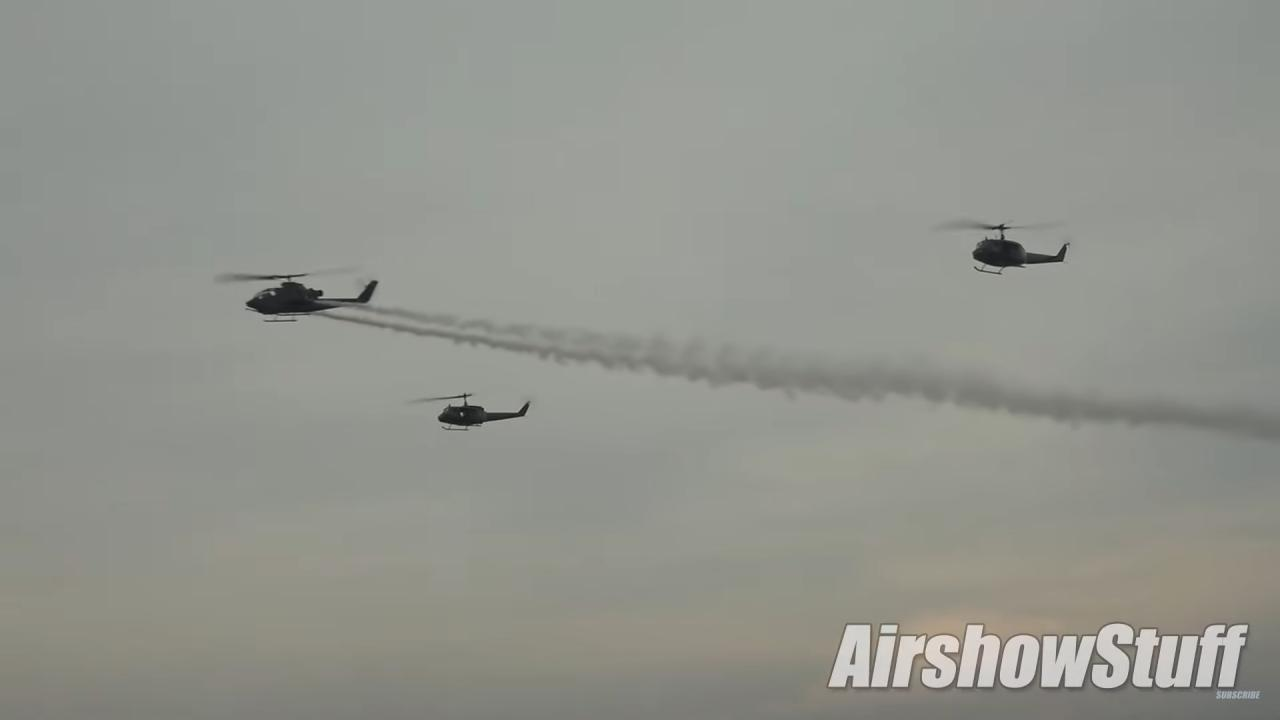Helicopter: (200, 254, 394, 331), (921, 212, 1088, 283), (398, 381, 542, 440)
